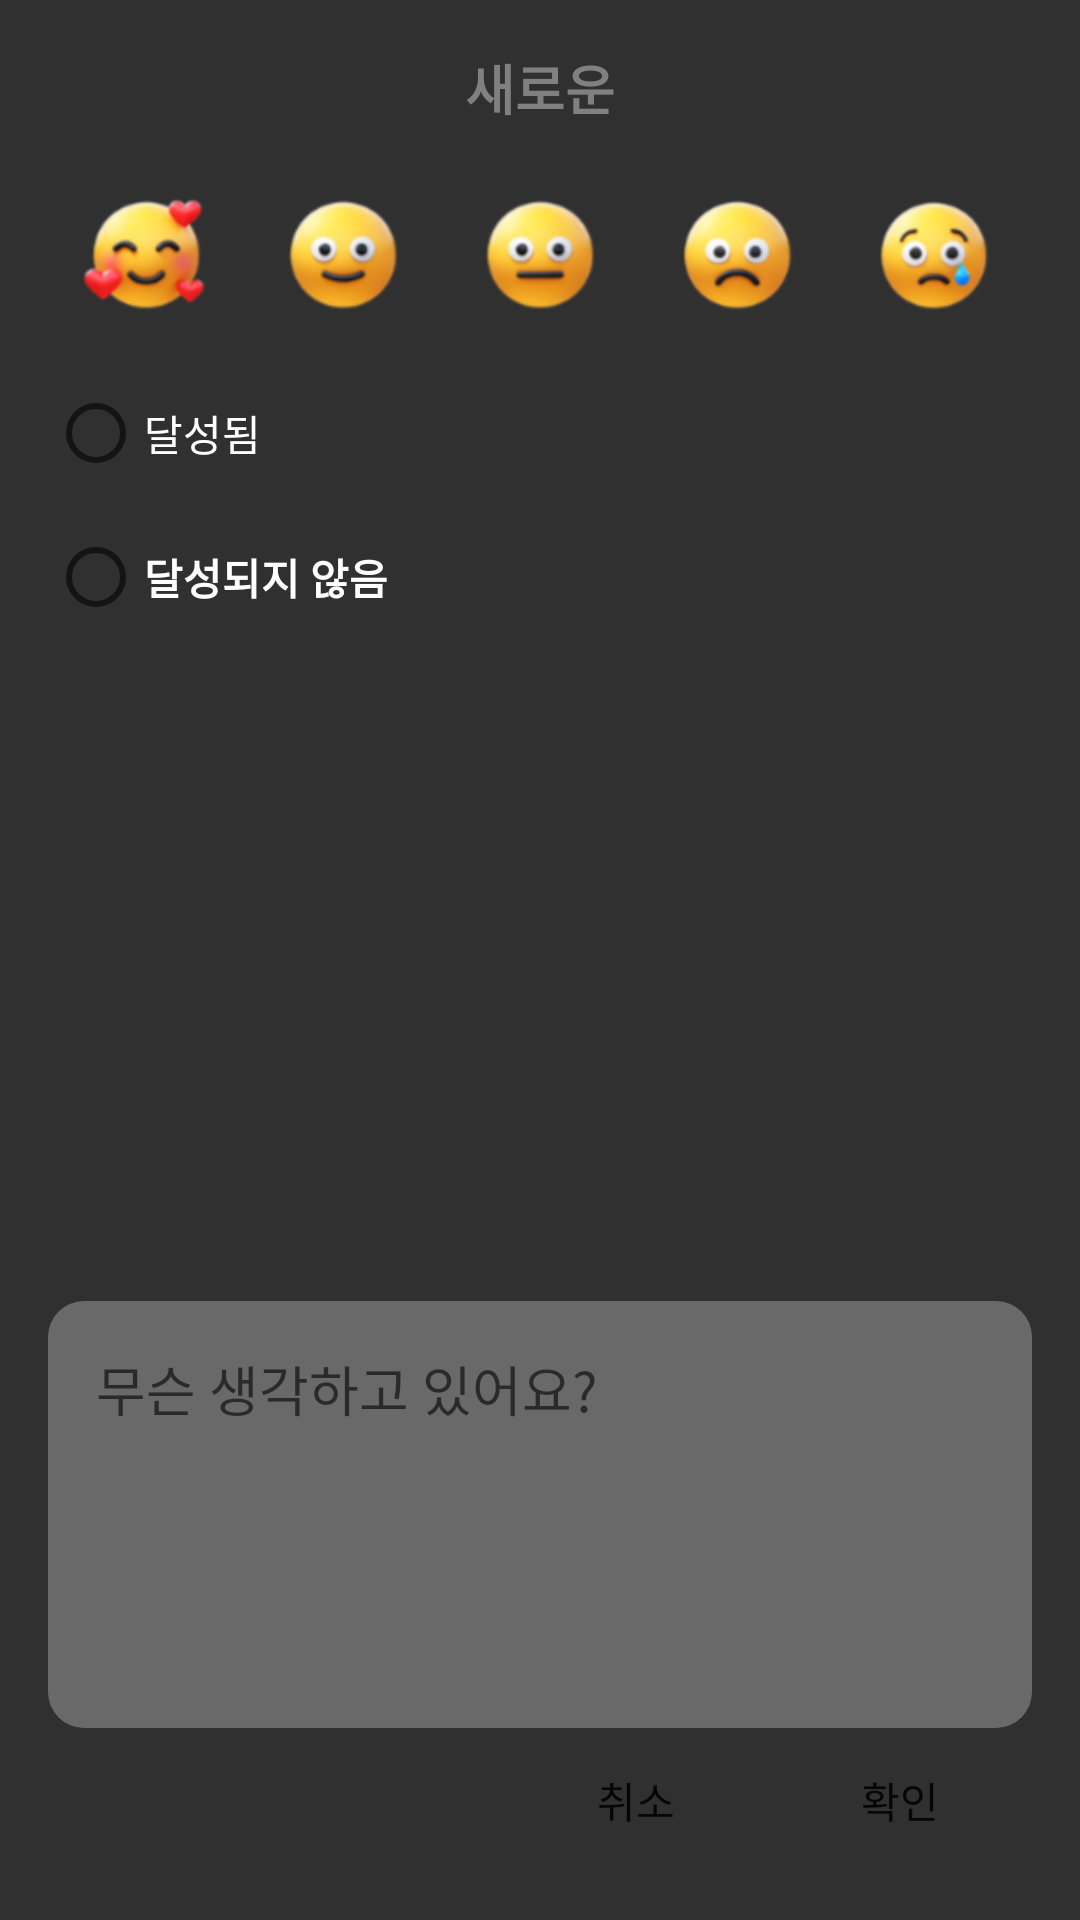

Named icons in this screenshot (1080px×1920px) and their bounding boxes, (x1, y1, x2, y2):
feeling happy: (289, 201, 397, 309)
feeling natural: (487, 201, 594, 309)
feeling sad: (684, 201, 791, 309)
feeling verryhappy: (84, 200, 205, 309)
feeling verrysad: (880, 202, 987, 309)
